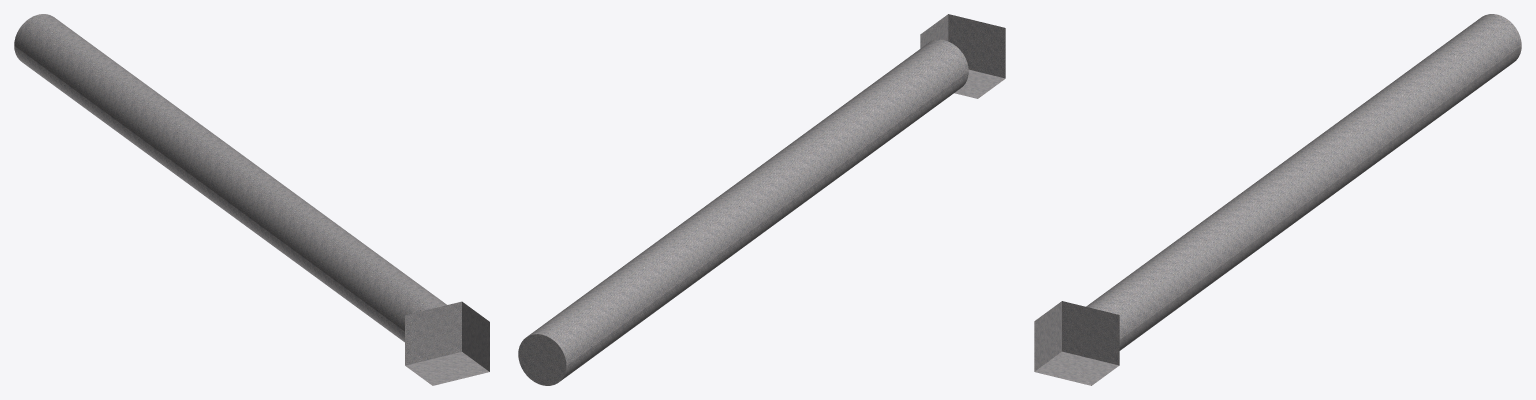
The picture shows the model from 3 angles, left to right: view 1: azimuth 30°, elevation 25°; view 2: azimuth 150°, elevation 25°; view 3: azimuth 330°, elevation 25°; orthographic projection.
Visible parts, largest first — view 1: 0_1_3_3_3_0_0_0_1_0; view 2: 0_1_3_3_3_0_0_0_1_0; view 3: 0_1_3_3_3_0_0_0_1_0.
Boxes of the visible parts, bbox=[...] form: 0_1_3_3_3_0_0_0_1_0: bbox=[14, 14, 489, 385]; 0_1_3_3_3_0_0_0_1_0: bbox=[518, 14, 1005, 385]; 0_1_3_3_3_0_0_0_1_0: bbox=[1034, 14, 1521, 385].
Bounding box in the file's own units: 0.9503 × 0.8 × 12.33.
Materials: 2 (2 with a texture image).
